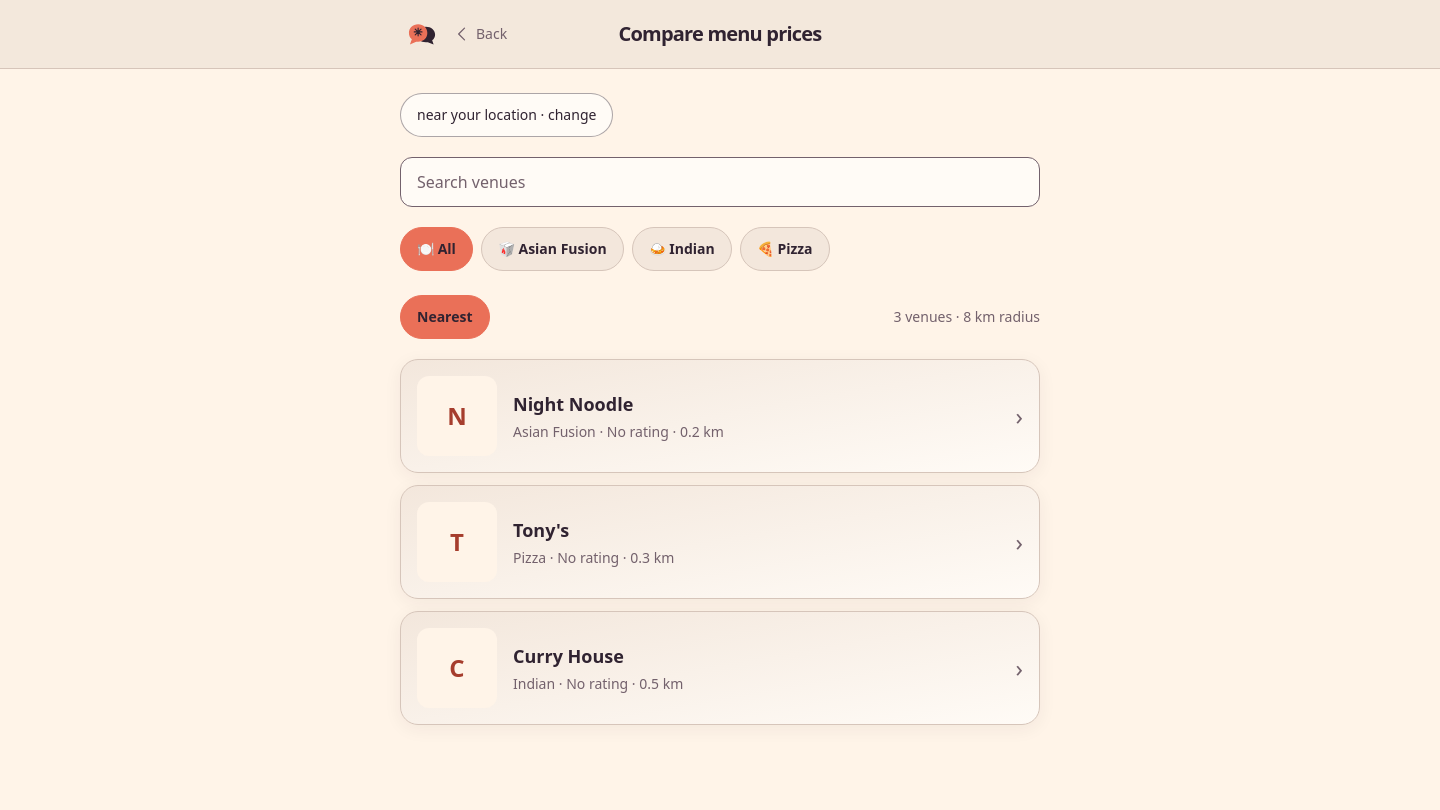
ComparePage › searches cached Venues by name or Cuisine without a network request
In the search field labelled "Search venues": (720, 182) [400, 157, 1040, 207], type "NIGHT"
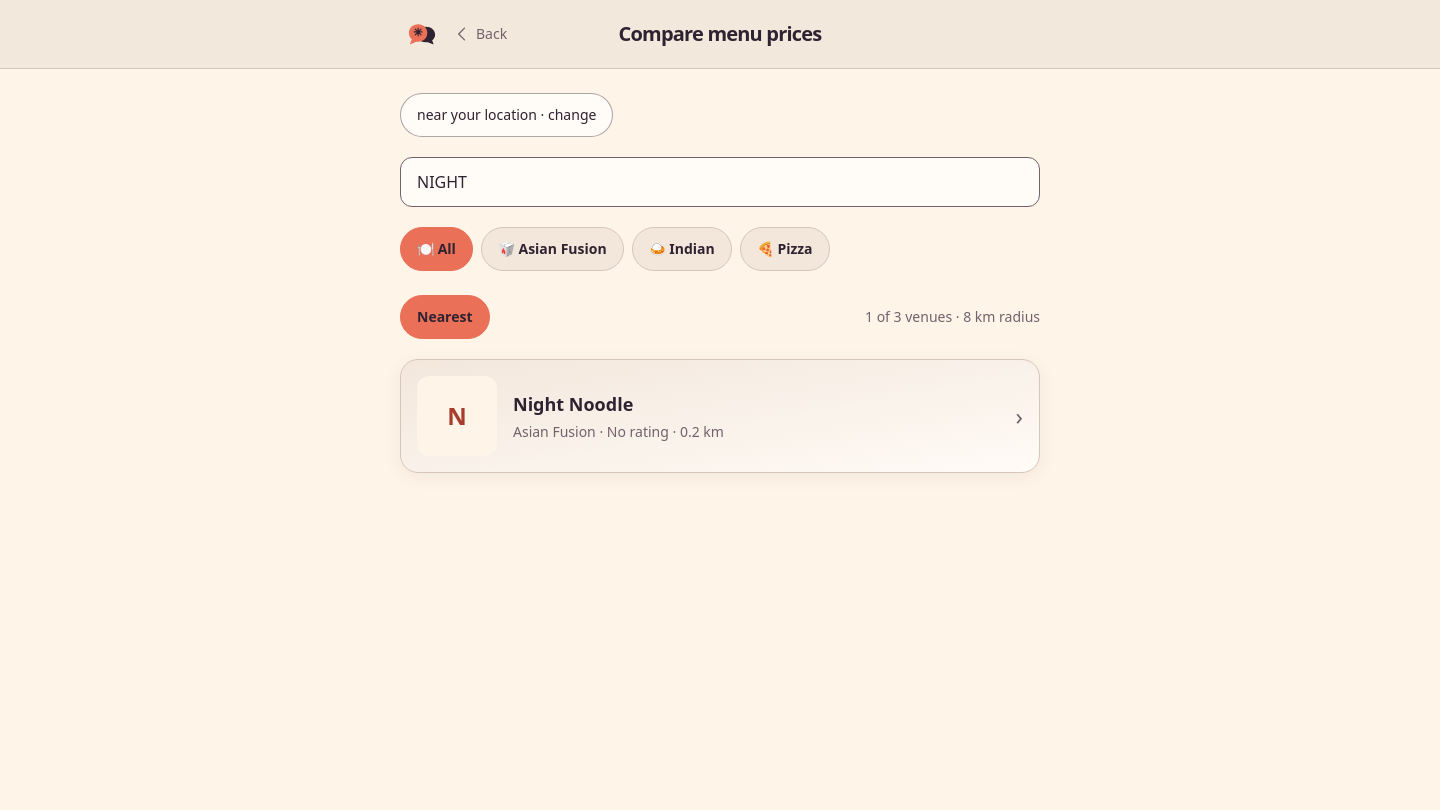
Expected: the text "Night Noodle" is shown, [513, 392, 633, 416]
Now the button "Tony's" is gone
Replace the text in the search field named "Search venues" with "pIzZa": (720, 182) [400, 157, 1040, 207]
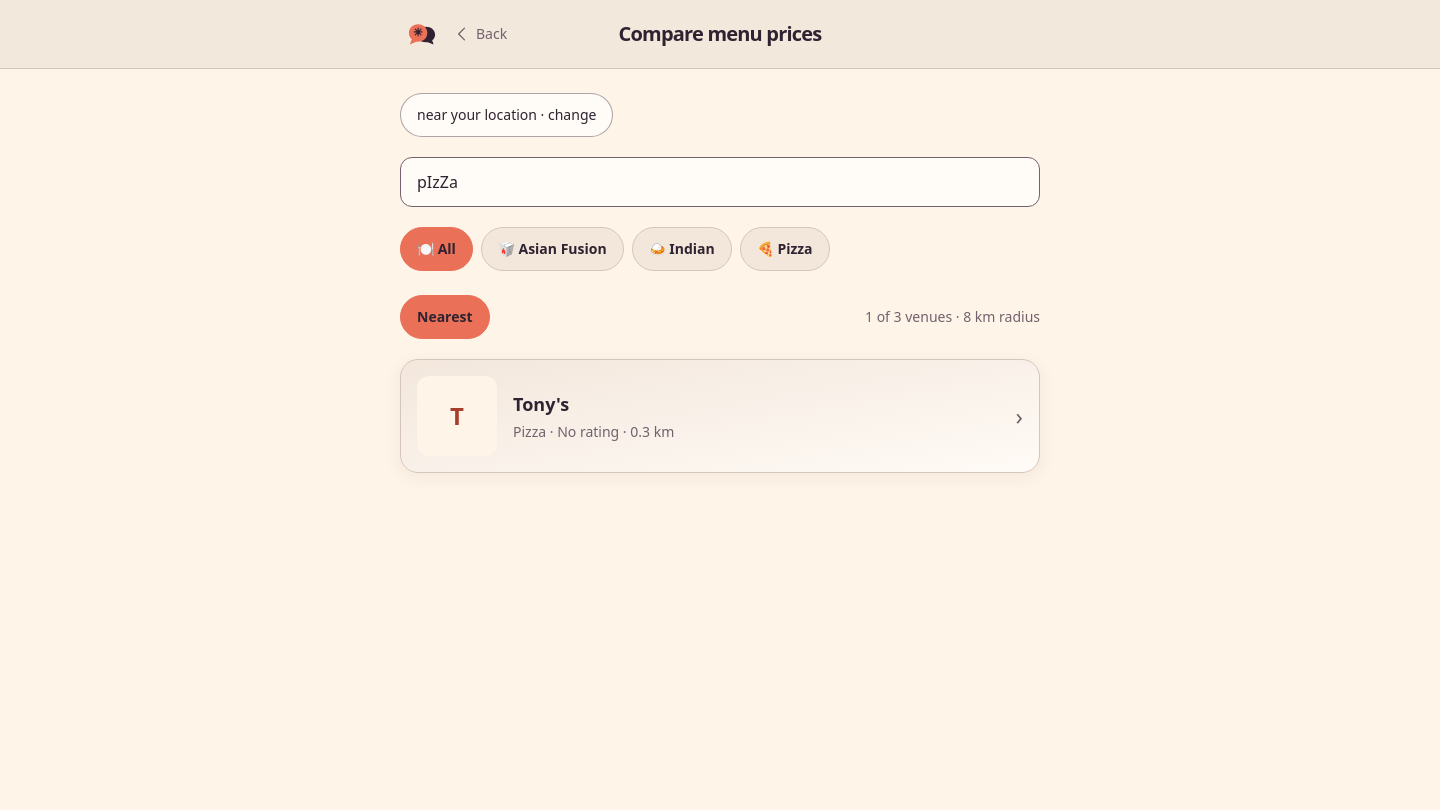
Now the text "Tony's" is shown, box [513, 392, 569, 416]
Now the button "Night Noodle" is gone
